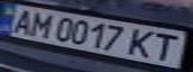0: (48, 15, 75, 43), (69, 18, 90, 46)
1: (84, 20, 109, 50)
7: (103, 23, 130, 53)
A: (3, 7, 39, 35)
K: (124, 26, 163, 60)
M: (24, 10, 57, 38)
T: (148, 30, 187, 62)
